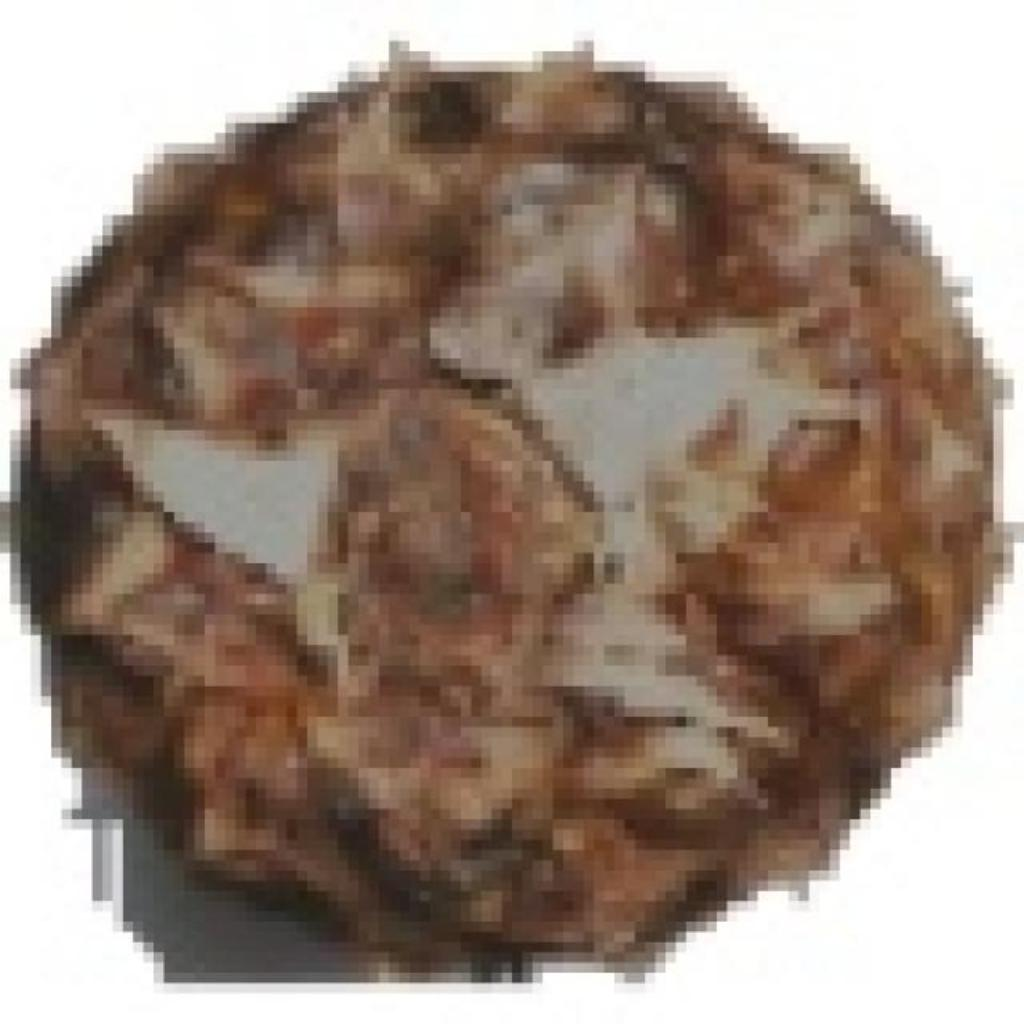pineapple: (41, 41, 1014, 952)
